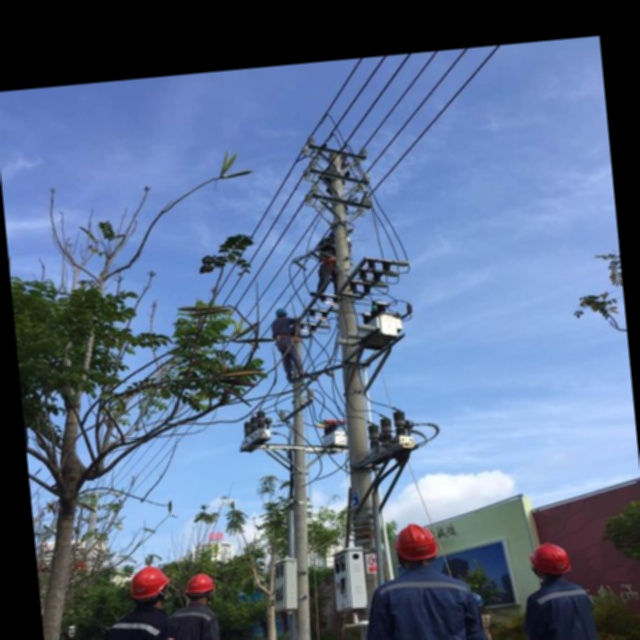Con_Casco: (394, 522, 438, 571), (527, 541, 572, 584), (129, 565, 172, 609), (186, 572, 215, 607)
Sin_Chaleco: (378, 571, 481, 640), (534, 583, 595, 640)
